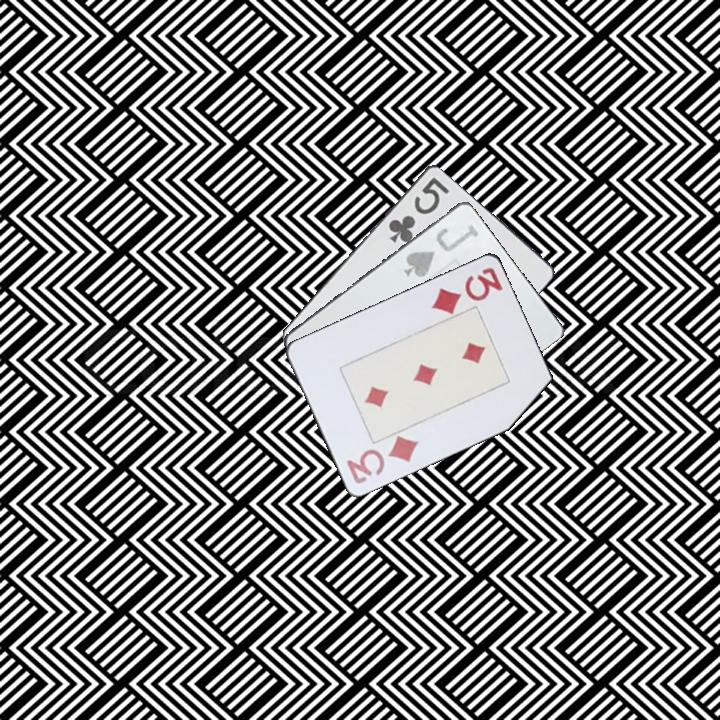3d: (343, 432, 422, 486), (428, 263, 506, 316)
5c: (385, 173, 452, 246)
Js: (400, 220, 482, 280)
